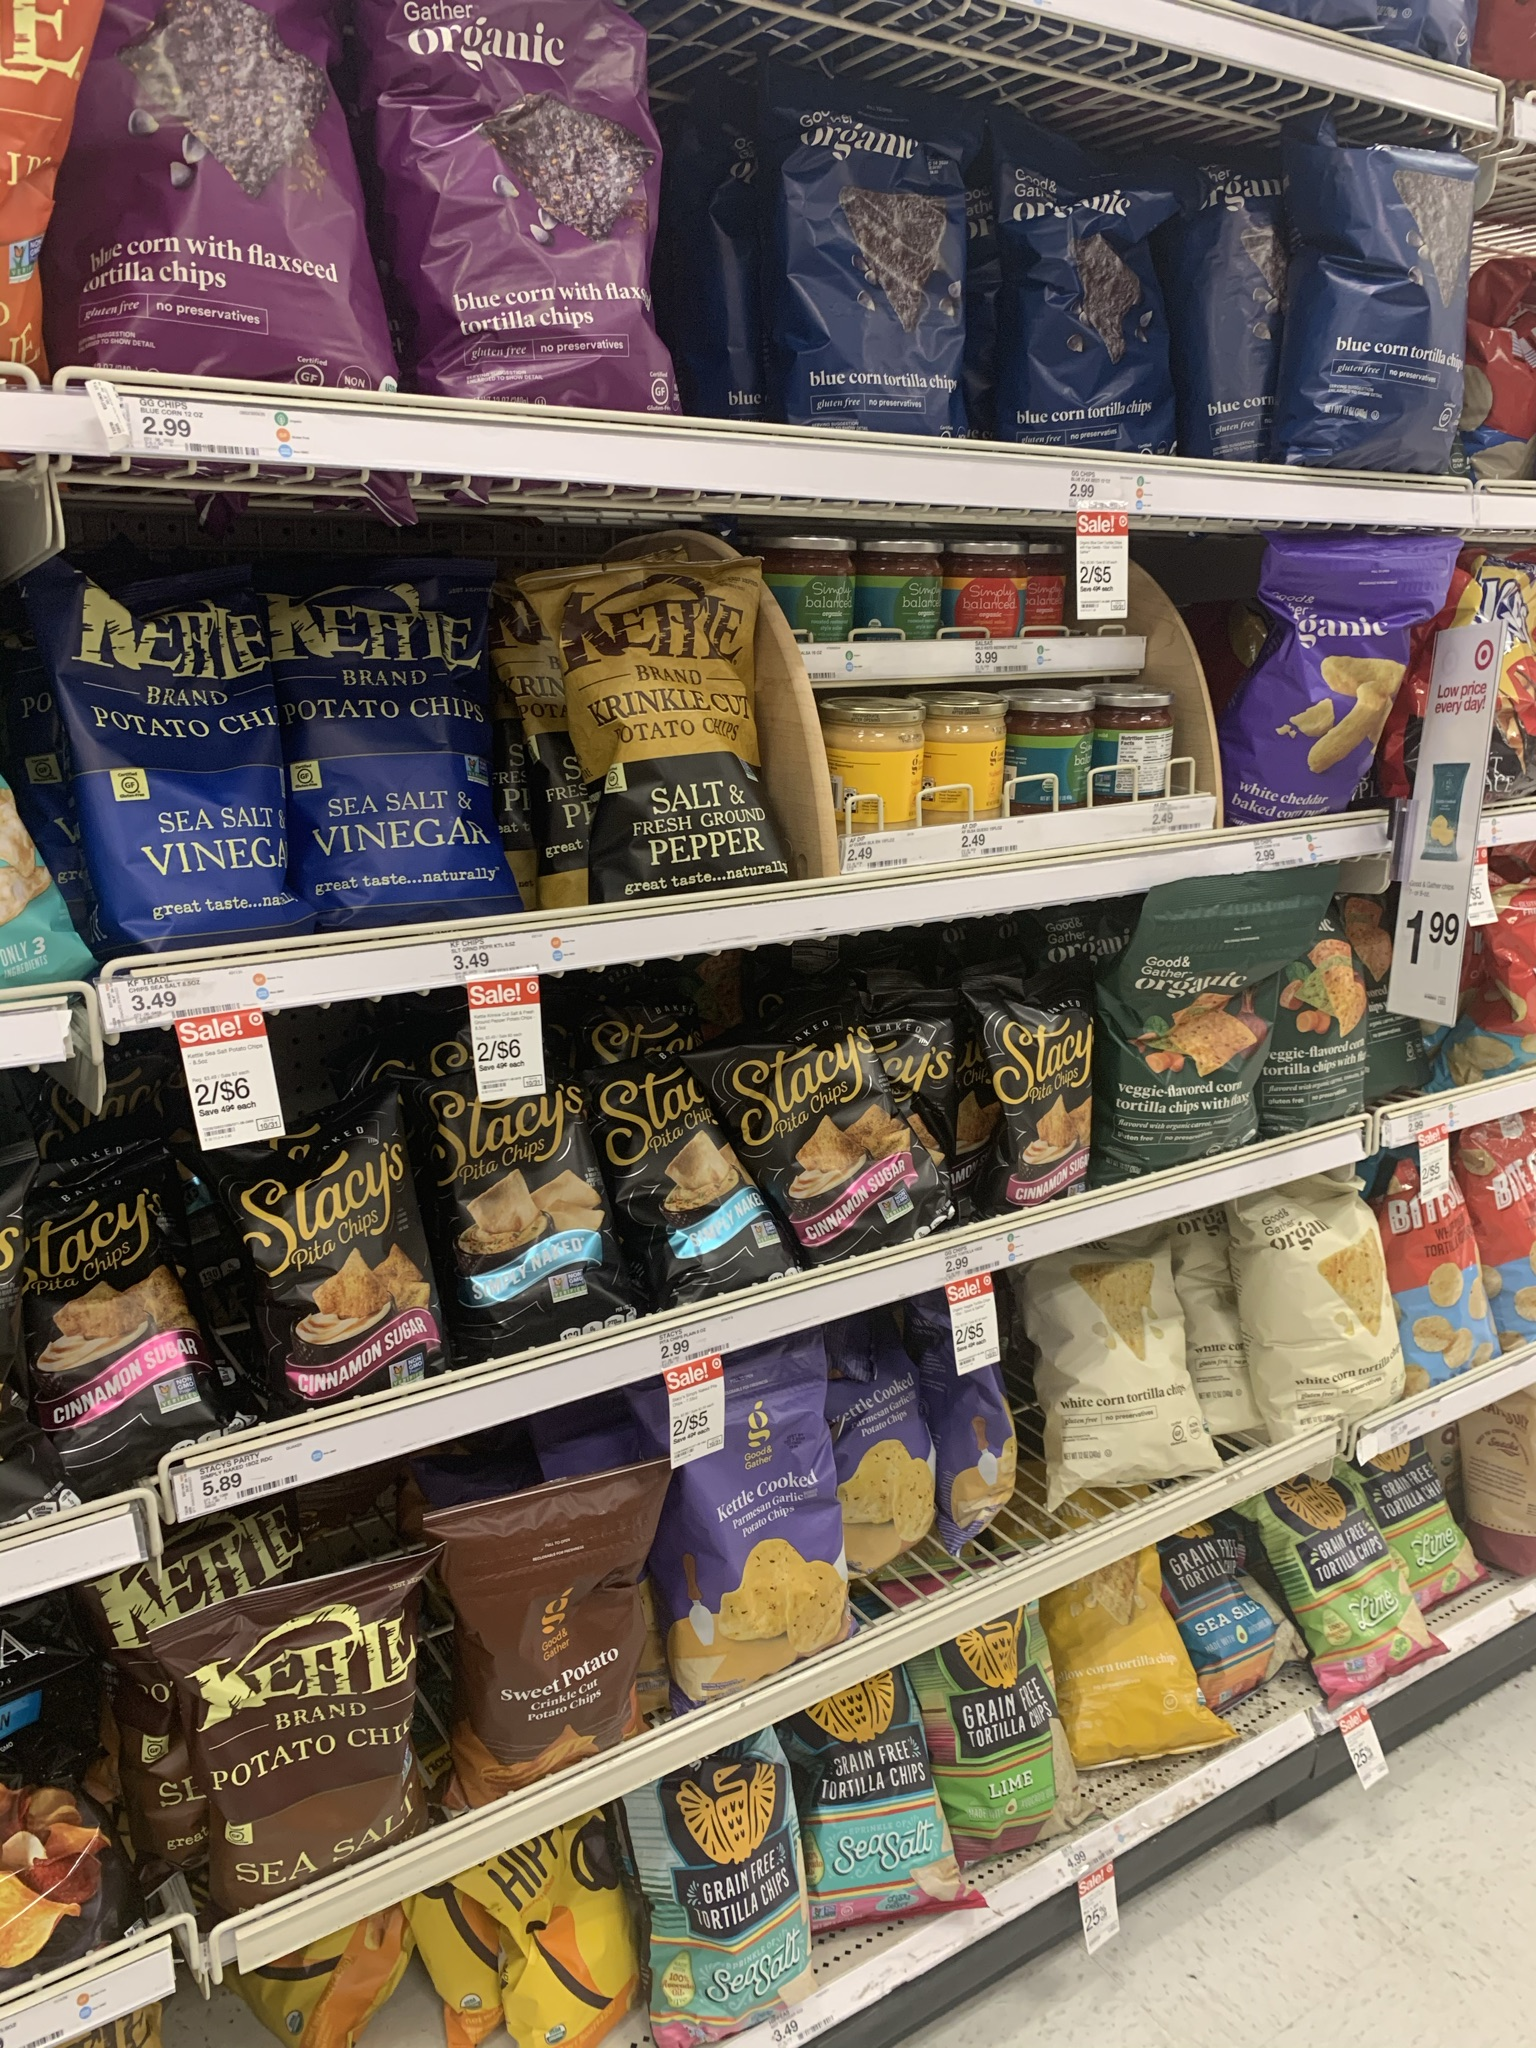chip: (378, 3, 687, 414), (82, 2, 390, 384), (52, 564, 284, 951), (531, 561, 783, 898), (153, 1608, 426, 1913), (281, 576, 502, 910), (773, 77, 975, 435), (205, 1100, 431, 1388), (445, 1492, 650, 1809), (399, 1035, 620, 1321), (653, 1376, 857, 1684), (15, 1161, 223, 1461), (1304, 135, 1483, 474), (574, 1021, 765, 1297), (1008, 135, 1170, 456), (744, 1018, 931, 1255), (1250, 542, 1405, 822), (1034, 1240, 1207, 1492), (1225, 1188, 1397, 1419), (1383, 1156, 1507, 1387), (979, 987, 1108, 1206), (828, 1347, 949, 1579)
